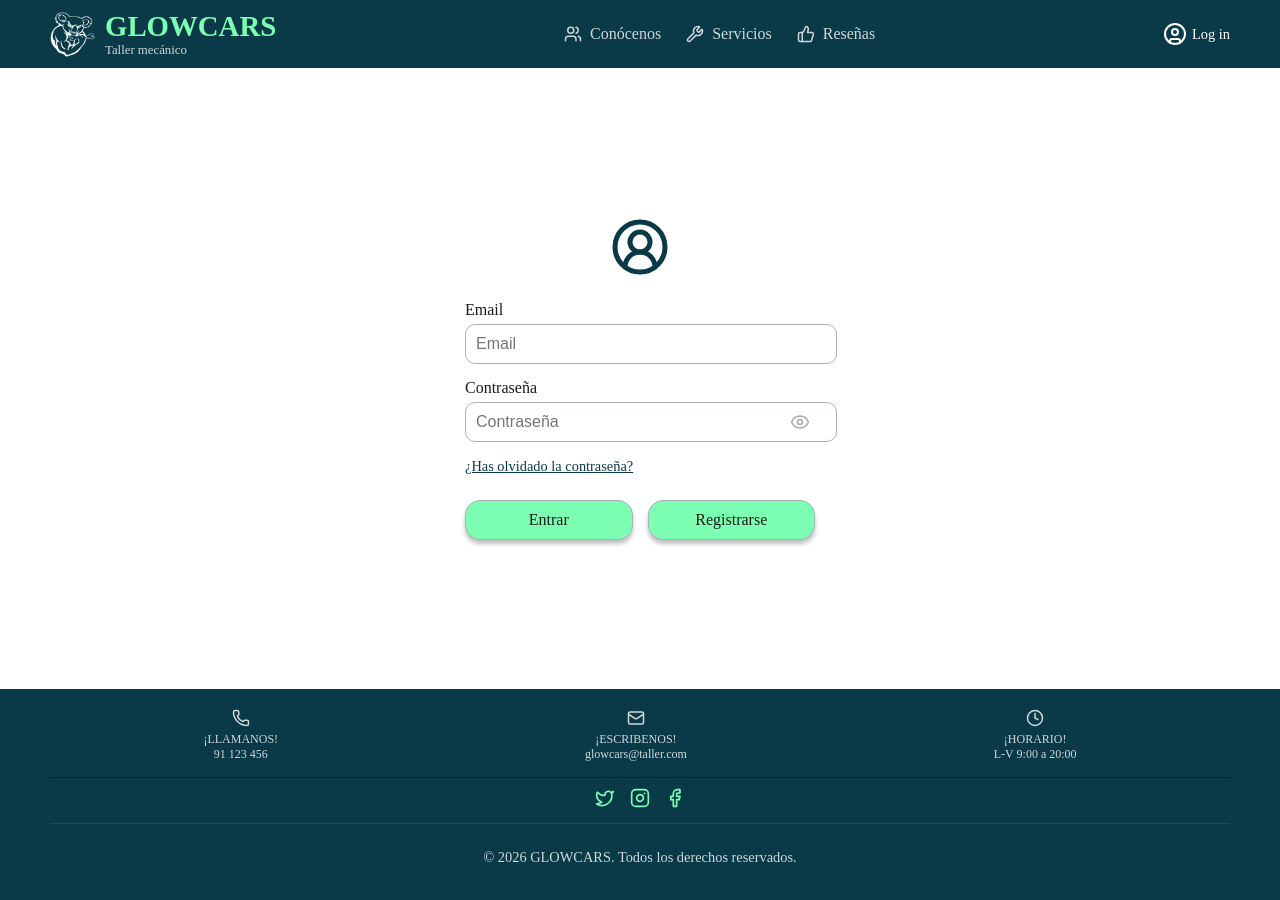
it: Pruebas en el componente <Login /> › debe realizar login exitoso, guardar en sessionStorage y redirigir
Type "test@glowcars.com" into the field with placeholder "Email". click: (651, 344)
box: [465,324,837,364]
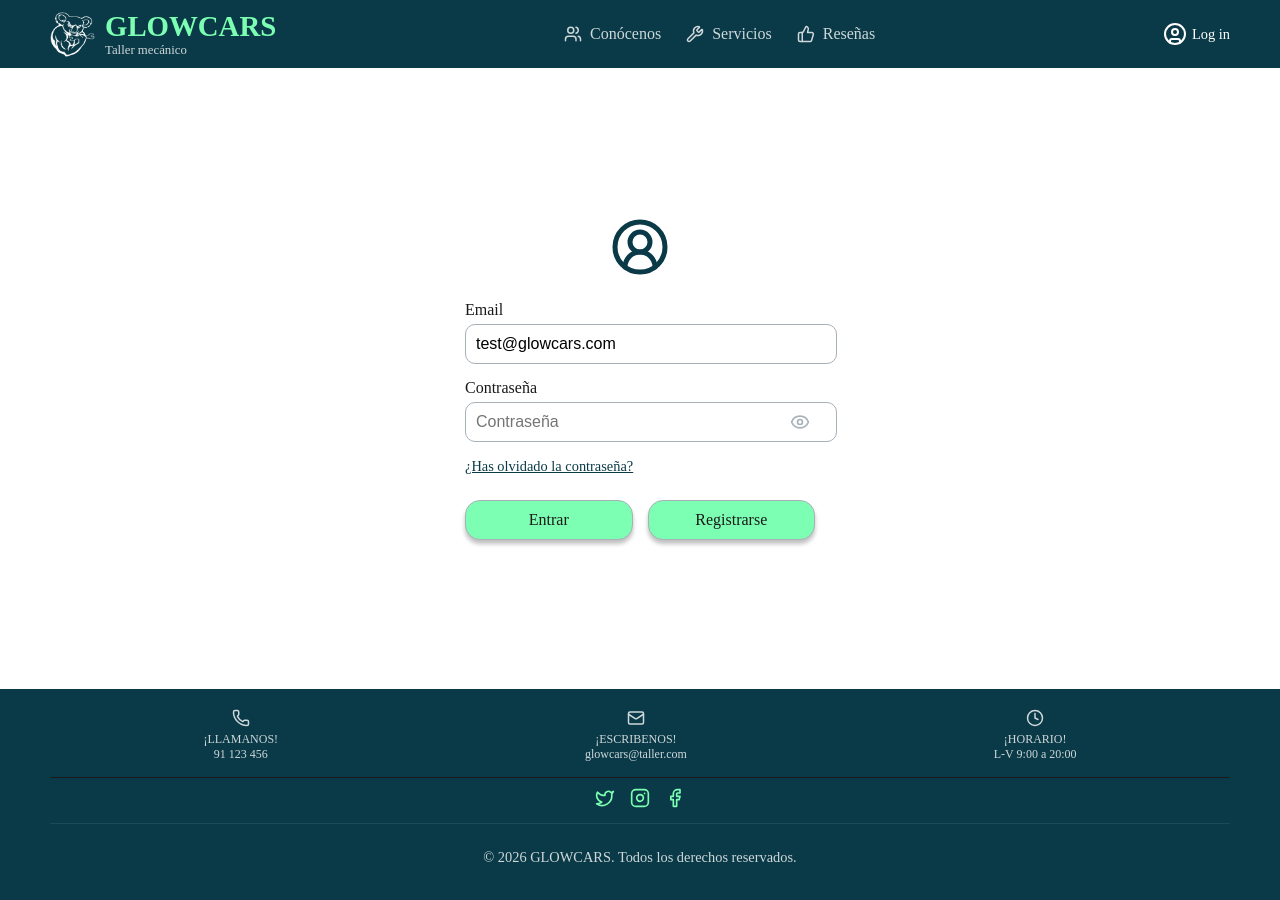
Type "password123" into the password field with placeholder "Contraseña". click: (651, 422)
box: [465,402,837,442]
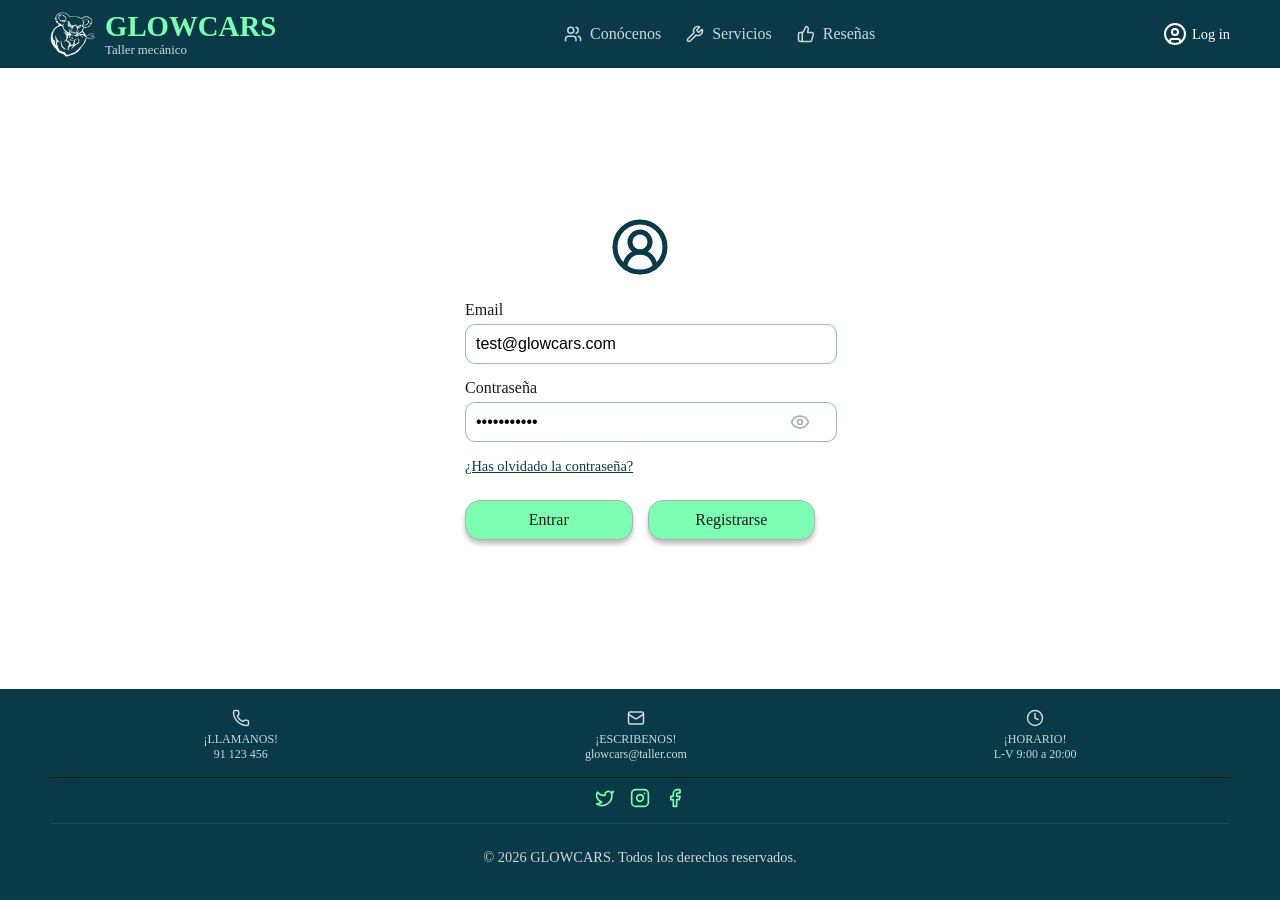
Click the button "Entrar". click: (549, 520)
box: [465,500,632,540]
Wait 1000 ms
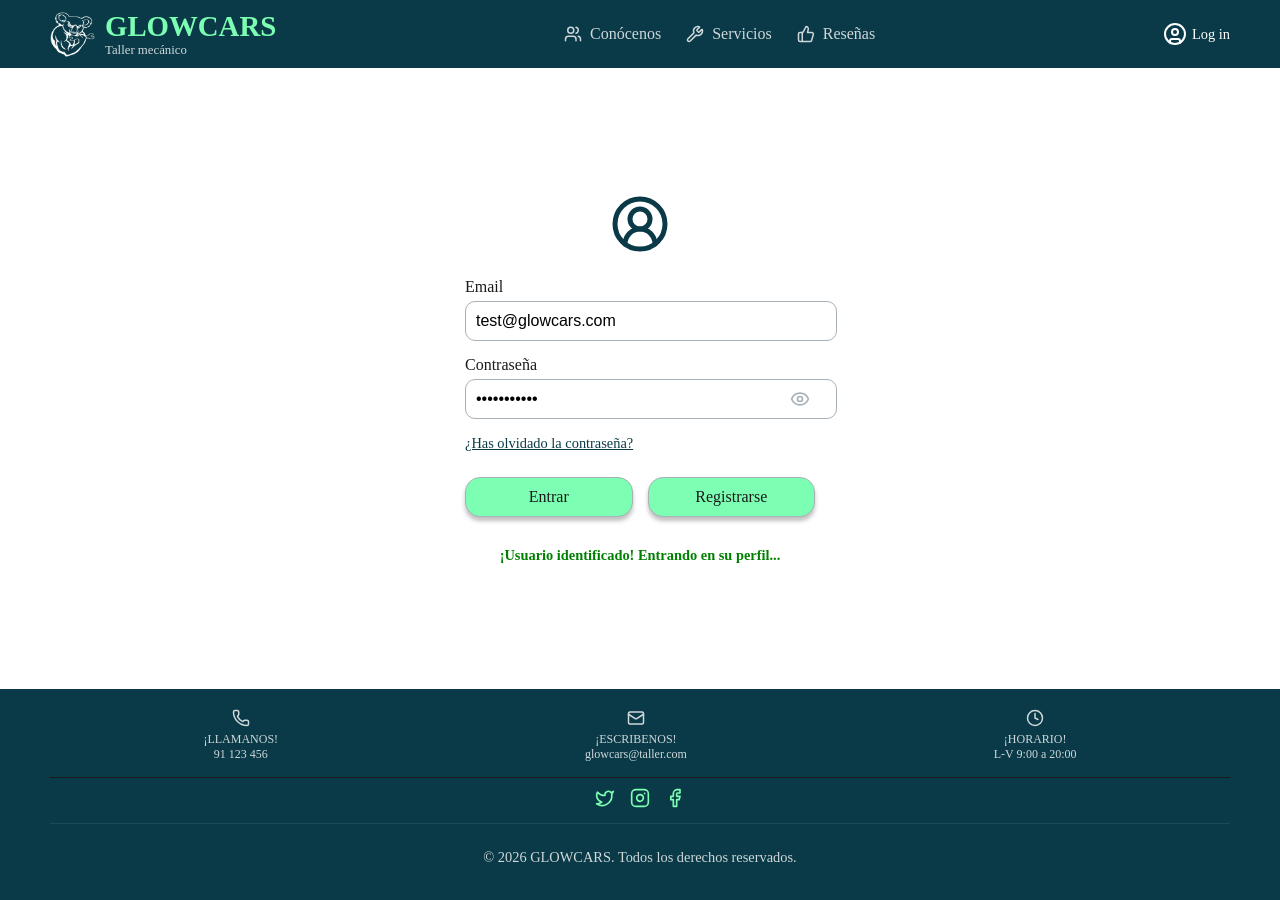
Result: the text "¡Usuario identificado! Entrando en su perfil..." is shown at [500,547,780,563]
